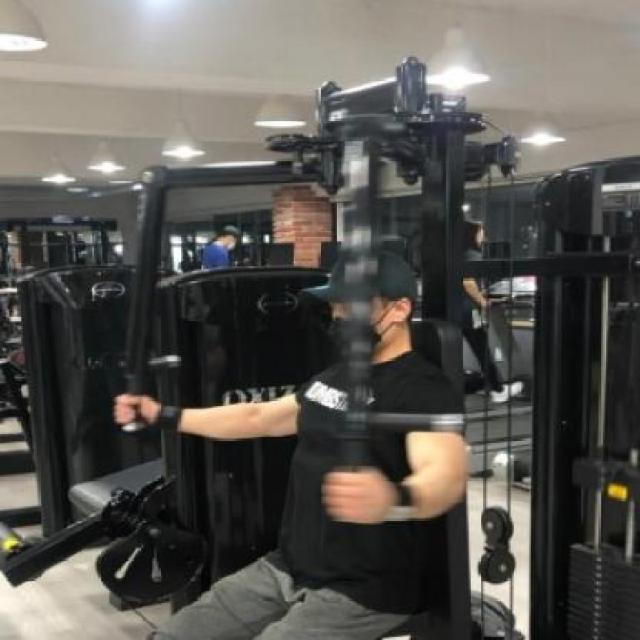chest fly machine: (61, 54, 640, 640)
